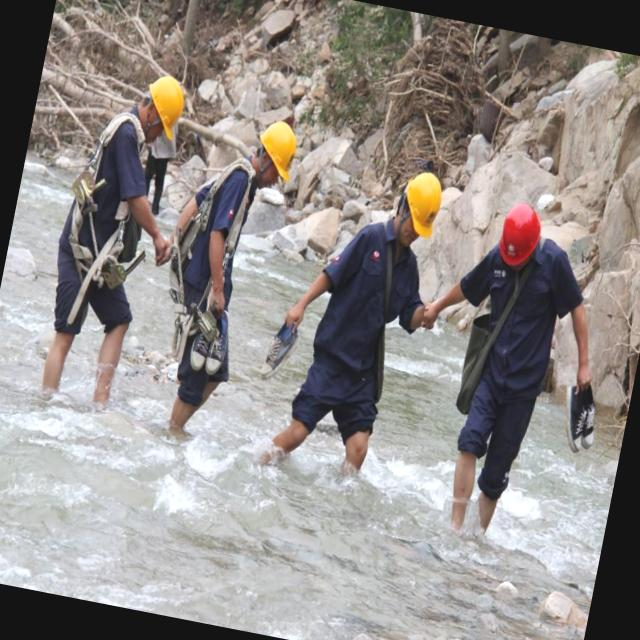helmet: (133, 64, 194, 144), (394, 166, 452, 242), (491, 195, 543, 276), (252, 112, 302, 183)
no-vest: (323, 224, 432, 386), (465, 252, 564, 410)
